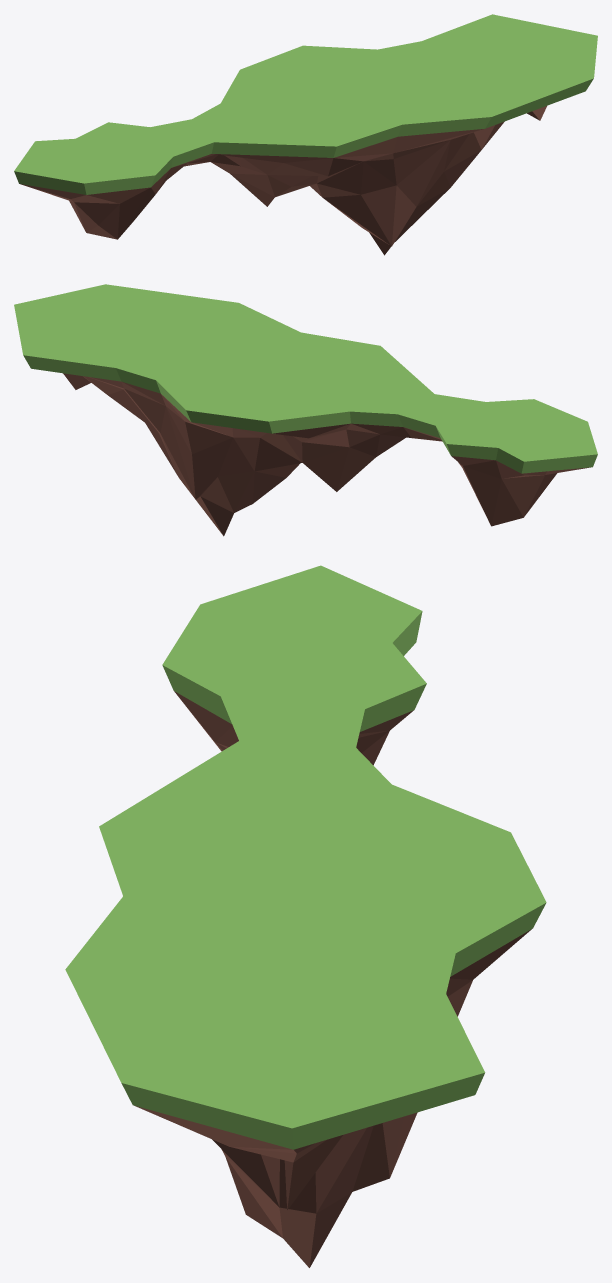
Rendered from Island8.fbx.
3 renders of one model, top to bottom at view 1: azimuth 30°, elevation 25°; view 2: azimuth 150°, elevation 25°; view 3: azimuth 270°, elevation 25°, orthographic. The views are drawn at different scales.
Visible parts, largest first — view 1: Island8; view 2: Island8; view 3: Island8.
Part boxes in pixels (<box>): Island8: <box>14,14,597,255</box>; Island8: <box>14,284,597,536</box>; Island8: <box>65,565,546,1267</box>.
Size of the model in its own units: 7.63 by 2.17 by 2.76.
